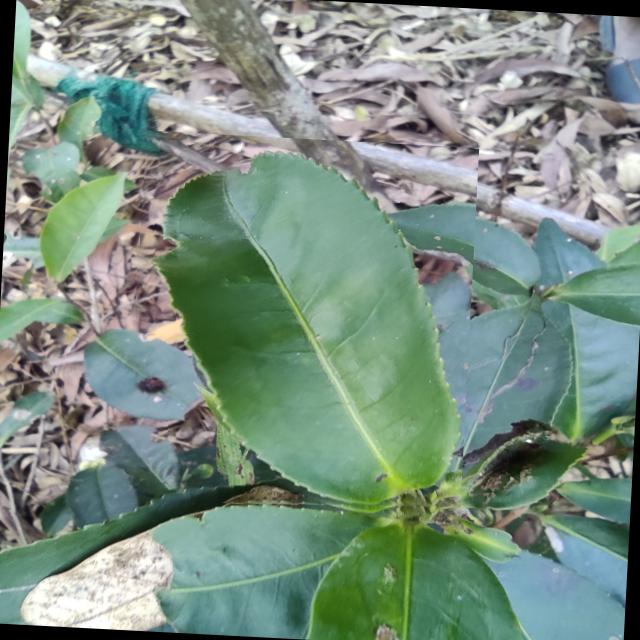Category D(7+ days, Not for Tea): (122, 129, 480, 518)
